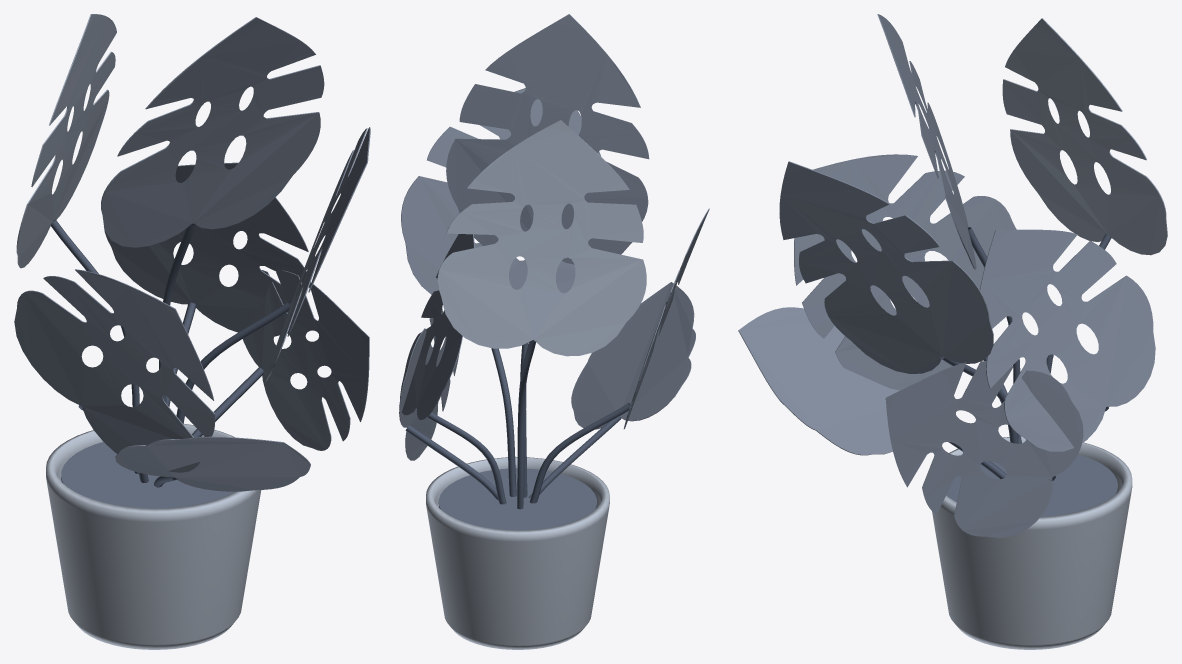
File: 龟背竹-lite.glb
The picture shows the model from 3 angles, left to right: view 1: azimuth 30°, elevation 25°; view 2: azimuth 150°, elevation 25°; view 3: azimuth 270°, elevation 25°; orthographic projection. The views are drawn at different scales.
Parts seen in each view (by area): view 1: soft, body, light, glass, dark; view 2: soft, light, body, glass, dark; view 3: soft, body, light, glass, dark.
Part boxes in pixels (x1=…): soft: x1=14, y1=17, x2=370, y2=491; body: x1=46, y1=424, x2=261, y2=649; light: x1=16, y1=14, x2=116, y2=268; glass: x1=61, y1=442, x2=234, y2=508; dark: x1=51, y1=219, x2=291, y2=487; soft: x1=399, y1=14, x2=709, y2=460; light: x1=437, y1=120, x2=646, y2=356; body: x1=426, y1=457, x2=609, y2=649; glass: x1=438, y1=468, x2=596, y2=530; dark: x1=405, y1=340, x2=632, y2=509; soft: x1=738, y1=14, x2=1155, y2=538; body: x1=932, y1=436, x2=1132, y2=649; light: x1=1002, y1=18, x2=1167, y2=255; glass: x1=946, y1=454, x2=1117, y2=516; dark: x1=940, y1=227, x2=1111, y2=480.
Bounding box in the file's own units: 0.5625 × 1.12 × 0.7112.
